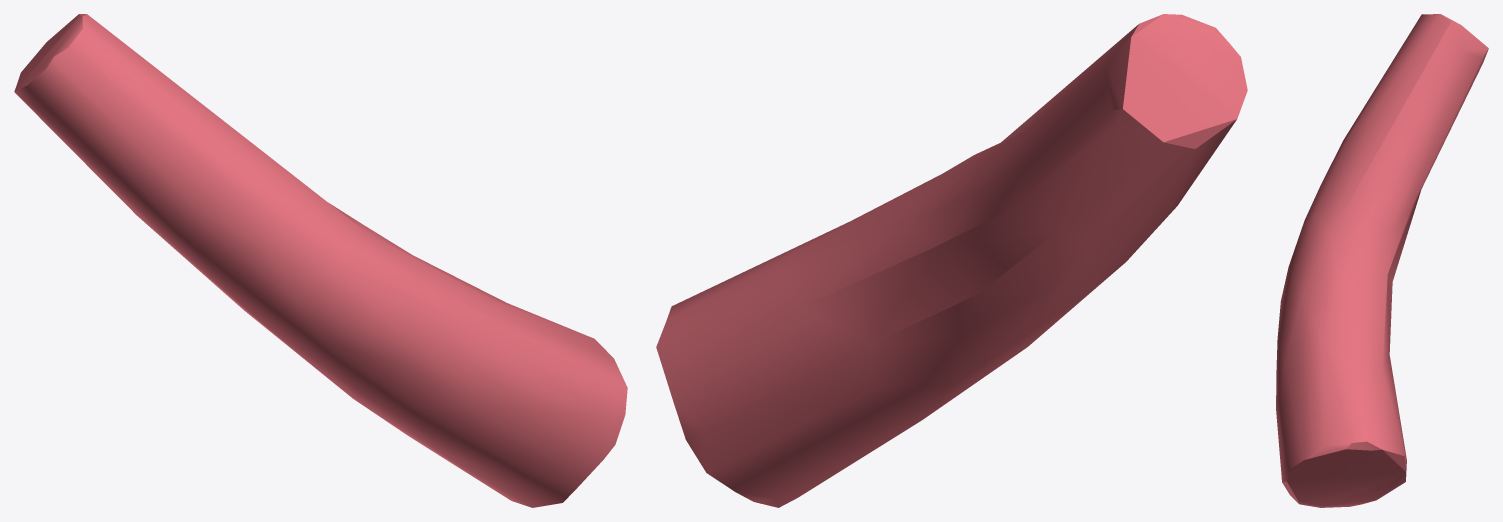
File: fma8617_fj6087.glb
3 renders of one model, left to right at view 1: azimuth 30°, elevation 25°; view 2: azimuth 150°, elevation 25°; view 3: azimuth 270°, elevation 25°, orthographic. The views are drawn at different scales.
Visible parts, largest first — view 1: FMA8617_FJ6087; view 2: FMA8617_FJ6087; view 3: FMA8617_FJ6087.
Part boxes in pixels (bbox=[...]): FMA8617_FJ6087: bbox=[14, 14, 627, 507]; FMA8617_FJ6087: bbox=[656, 14, 1247, 507]; FMA8617_FJ6087: bbox=[1276, 14, 1488, 507].
Size of the model in its own units: 0.00732 by 0.00705 by 0.00369.
